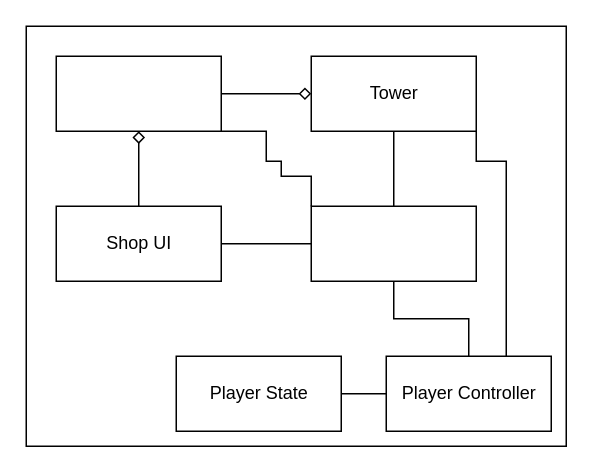
Some shapes in this 593 by 473 pixel diagram are drawn without their labels. The centre of each missing label's shape, as x and y in pixels:
Camera Pawn: (393,243)
Shop Button: (138,93)
